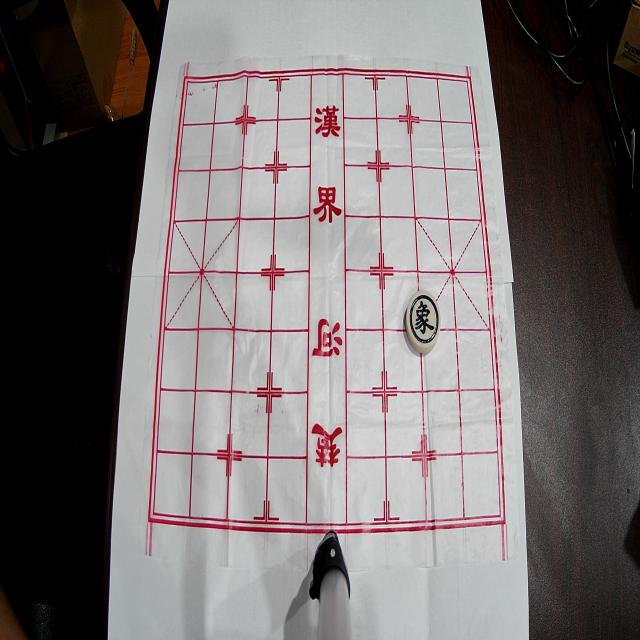black-elephant: (406, 291, 440, 354)
